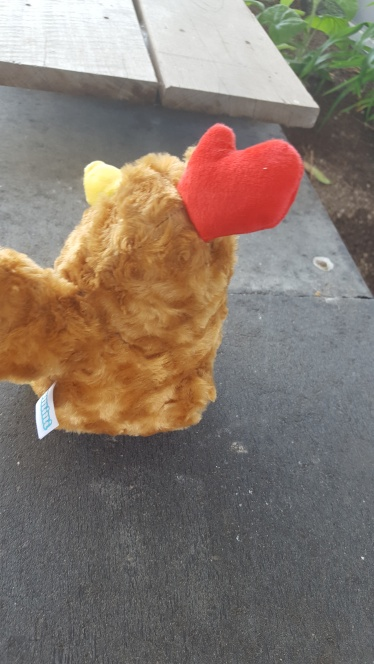chicken_back: (1, 123, 306, 436)
